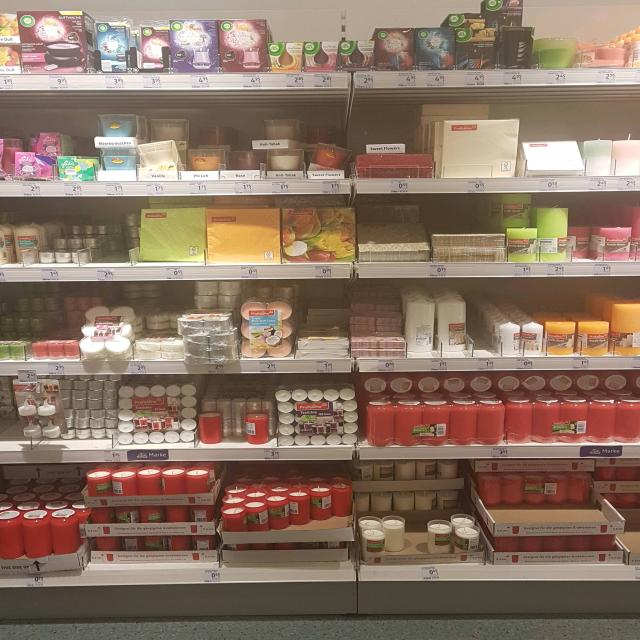unorganised: (83, 305, 131, 355), (136, 19, 170, 73), (407, 296, 436, 355), (137, 137, 181, 173), (309, 137, 349, 176), (498, 192, 533, 227), (356, 493, 414, 514), (259, 115, 303, 141), (198, 411, 223, 446), (567, 226, 594, 258), (383, 516, 407, 551), (290, 491, 312, 526), (199, 124, 239, 143), (332, 483, 351, 519), (499, 322, 518, 354), (224, 508, 245, 535), (122, 214, 139, 246), (395, 457, 416, 480), (413, 492, 436, 512), (436, 459, 457, 480)
